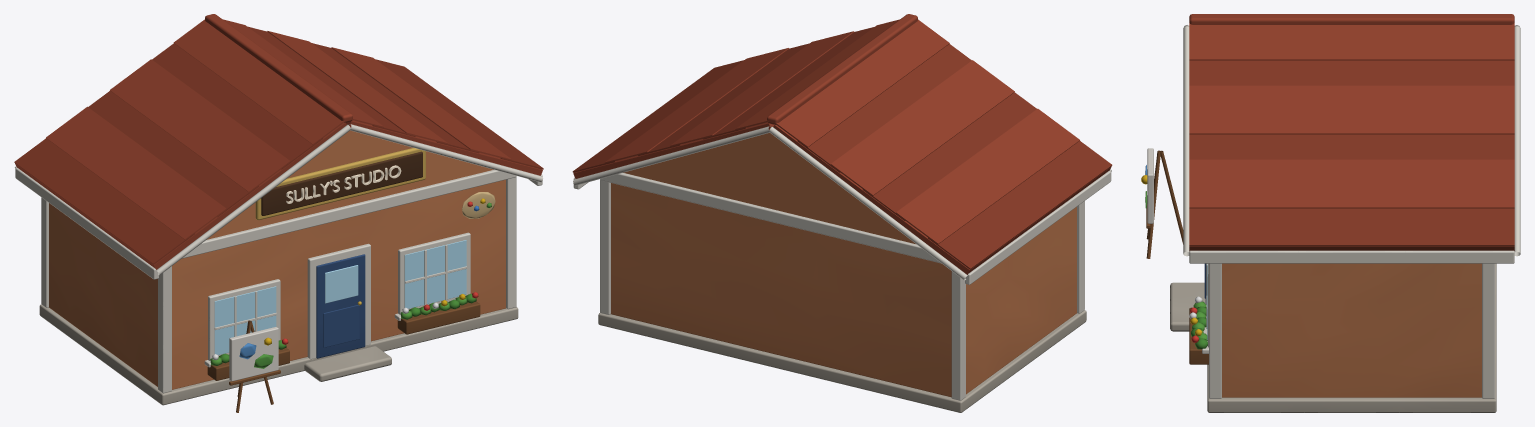
Rendered from bld_studio.glb.
The picture shows the model from 3 angles, left to right: view 1: azimuth 30°, elevation 25°; view 2: azimuth 150°, elevation 25°; view 3: azimuth 270°, elevation 25°; orthographic projection. The views are drawn at different scales.
Visible parts, largest first — view 1: bld_studio_main, bld_studio_glass, Text.006; view 2: bld_studio_main; view 3: bld_studio_main.
Boxes of the visible parts, x1=… form: bld_studio_main: x1=14, y1=14, x2=543, y2=412; bld_studio_glass: x1=214, y1=240, x2=466, y2=354; Text.006: x1=286, y1=165, x2=401, y2=203; bld_studio_main: x1=572, y1=14, x2=1112, y2=412; bld_studio_main: x1=1141, y1=14, x2=1520, y2=412.
Size of the model in its own units: 4.93 by 3.05 by 3.54.
